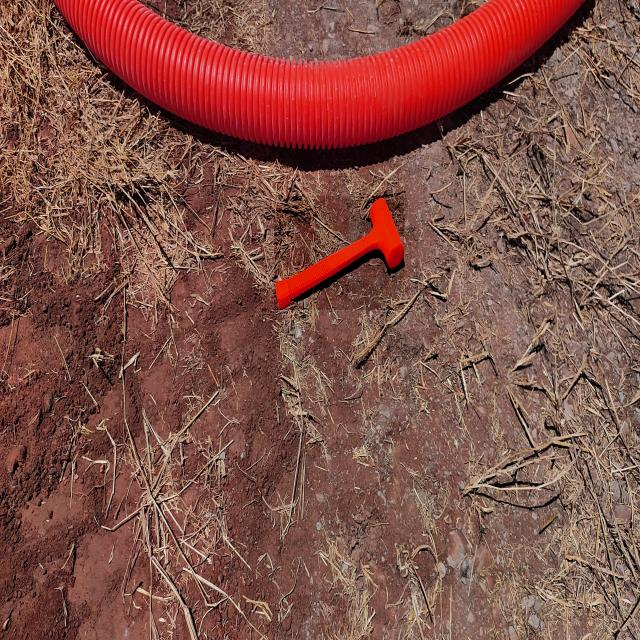Orange_hammer: (274, 196, 404, 310)
